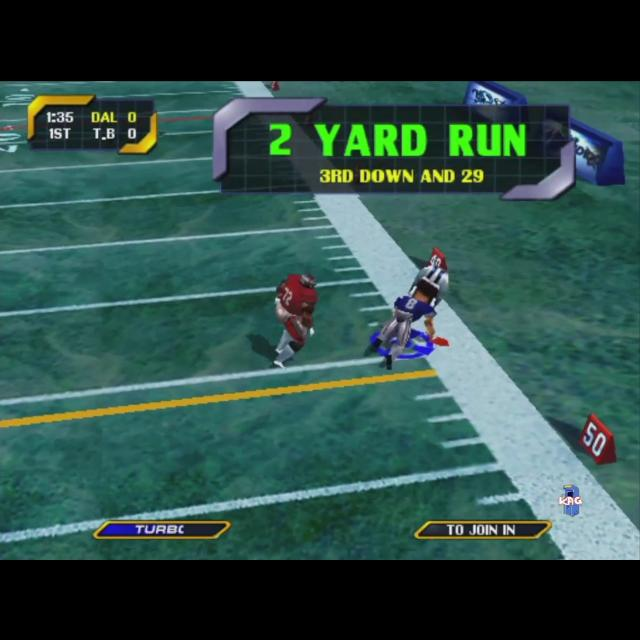player: (368, 247, 449, 369), (272, 271, 318, 367)
